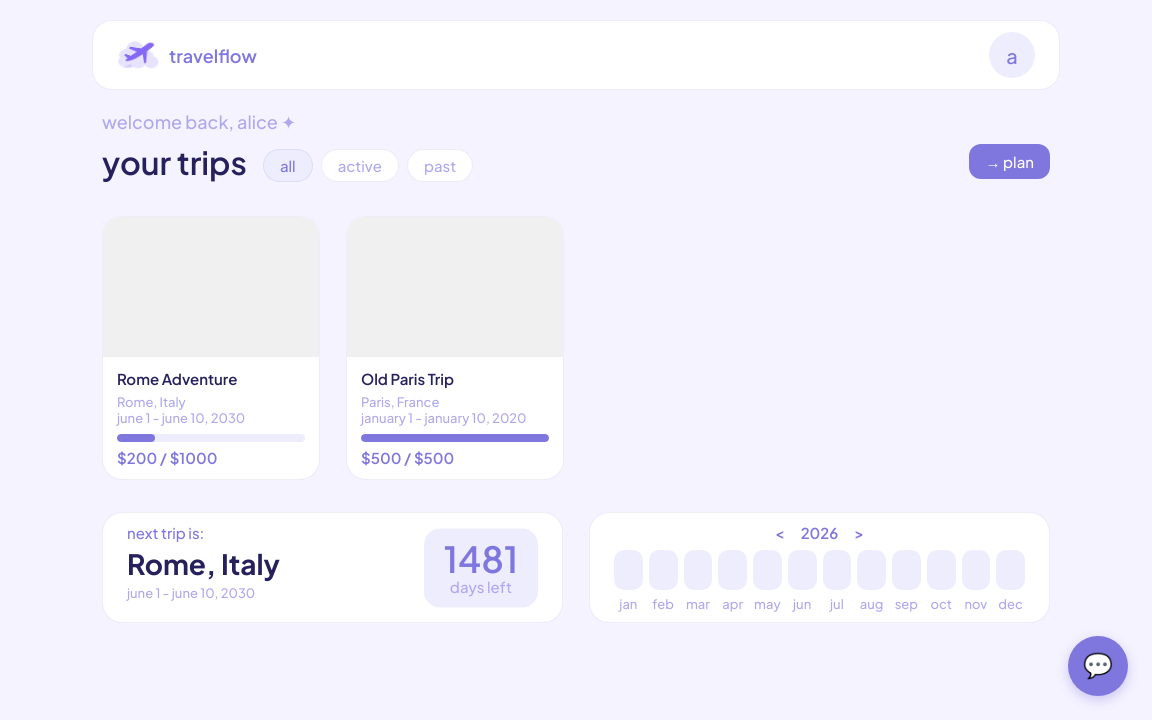
Test: TripsPage › filter "active" shows only future trips
Expected: the button "all" is shown, [263,149,313,182]
Click the button "active": (360, 166) [321,149,399,182]
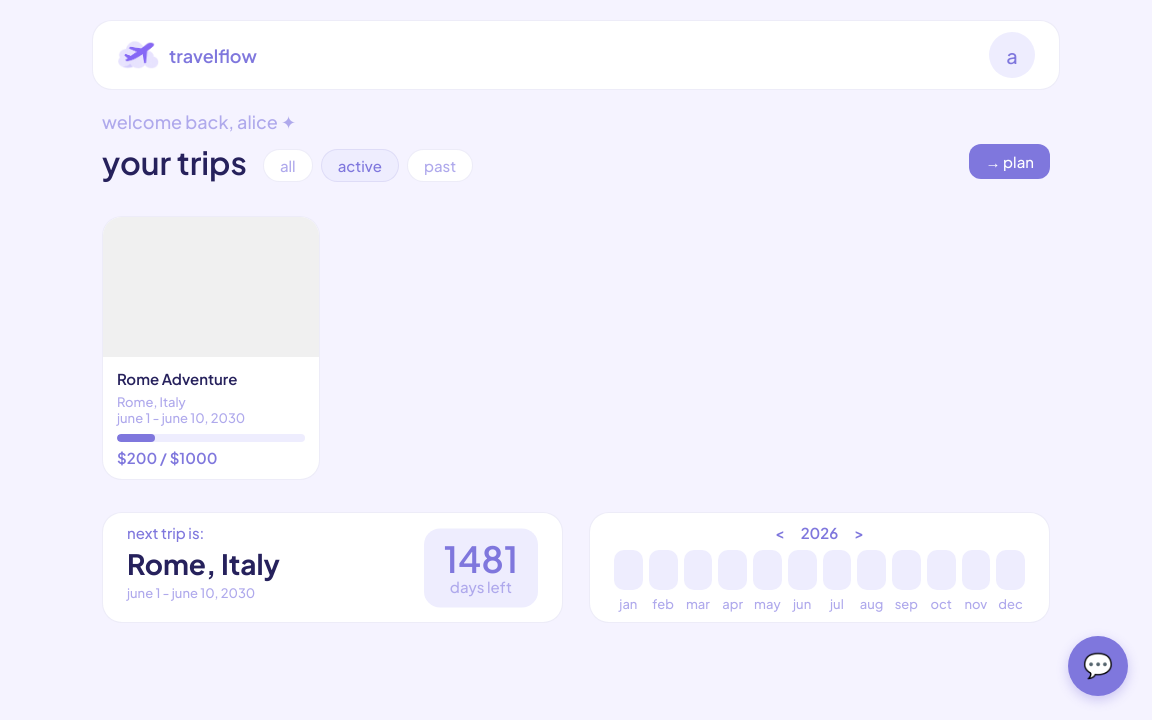
Expected: the heading "Rome Adventure" is shown, [117,369,238,388]
Expected: the heading "Old Paris Trip" is gone
